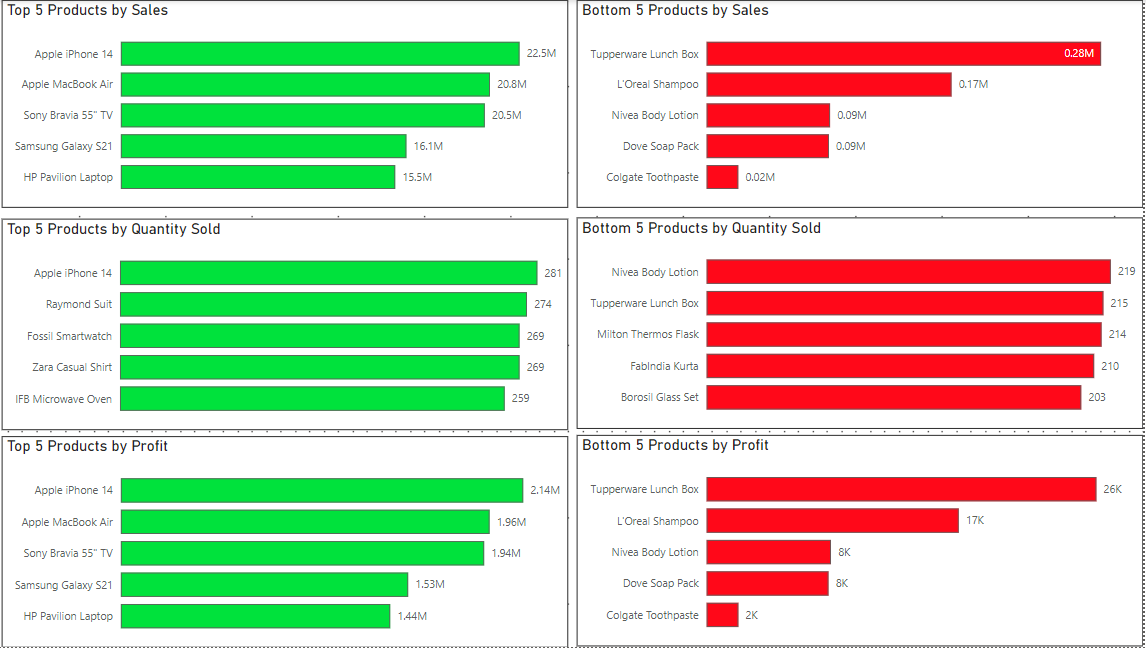

What the dashboard file says about the page in this screenshot:
{"tool":"powerbi","page":{"name":"Top/Bottom Analysis","canvas":[1280,720],"ordinal":0},"visuals":[{"type":"barChart","title":"Top 5 Products by Sales","fields":{"Category":["Dim Product.Product Name"],"Y":["Sum(Merge1.Total Sales)"]},"box":[9.8,0,630.2,231.4],"z":0},{"type":"barChart","title":"Bottom 5 Products by Sales","fields":{"Category":["Dim Product.Product Name"],"Y":["Sum(Merge1.Total Sales)"]},"box":[649.8,0,630.2,231.4],"z":1000},{"type":"barChart","title":"Top 5 Products by Quantity Sold","fields":{"Category":["Dim Product.Product Name"],"Y":["Sum(Merge1.Units Sold)"]},"box":[9.8,243.7,630.2,235.1],"z":2000},{"type":"barChart","title":"Bottom 5 Products by Quantity Sold","fields":{"Category":["Dim Product.Product Name"],"Y":["Sum(Merge1.Units Sold)"]},"box":[649.8,242.5,630.2,235.1],"z":3000},{"type":"barChart","title":"Top 5 Products by Profit","fields":{"Category":["Dim Product.Product Name"],"Y":["Sum(Merge1.Profit)"]},"box":[9.8,484.9,630.2,235.1],"z":4000},{"type":"barChart","title":"Bottom 5 Products by Profit","fields":{"Category":["Dim Product.Product Name"],"Y":["Sum(Merge1.Profit)"]},"box":[649.7,484.2,630.3,235.1],"z":5000}]}

Visuals, with their boxes in screenshot pixels (x1, y1, x2, y2), scaled from the page's 1280x720 canvas onto the 1146x648 screenshot:
"Top 5 Products by Sales" barChart: 9 0 573 208
"Bottom 5 Products by Sales" barChart: 582 0 1145 208
"Top 5 Products by Quantity Sold" barChart: 9 219 573 431
"Bottom 5 Products by Quantity Sold" barChart: 582 218 1145 430
"Top 5 Products by Profit" barChart: 9 436 573 647
"Bottom 5 Products by Profit" barChart: 582 436 1145 647
